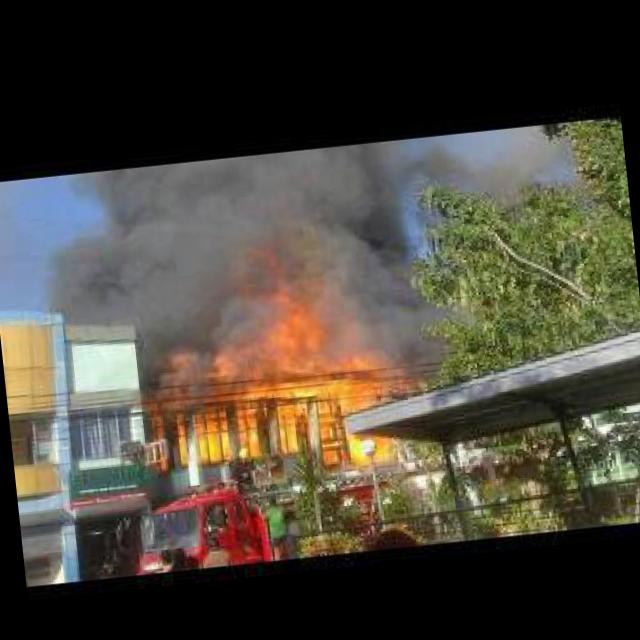fire: (149, 304, 418, 483)
smoke: (24, 138, 426, 329), (292, 133, 460, 361)
